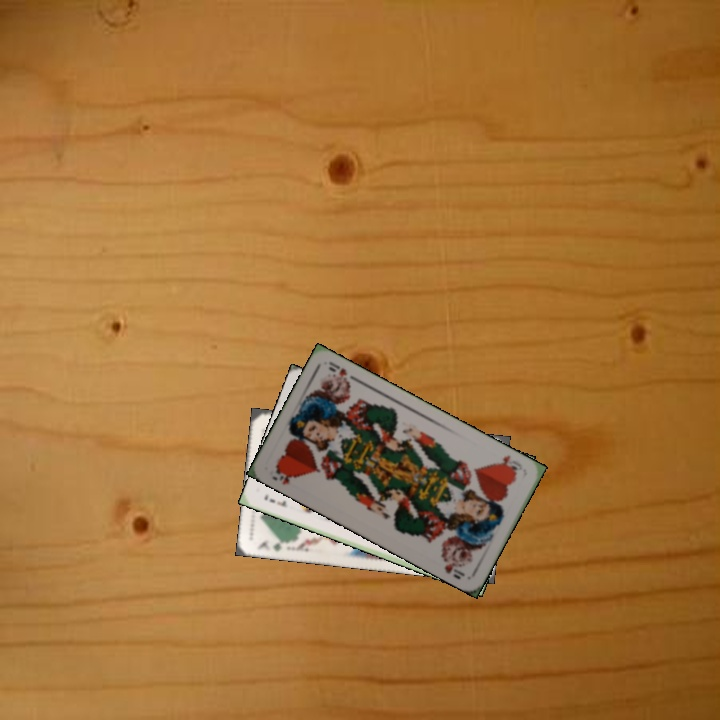E7: (260, 490, 289, 510)
GK: (254, 535, 293, 554)
HO: (268, 462, 298, 488), (493, 451, 520, 476)
